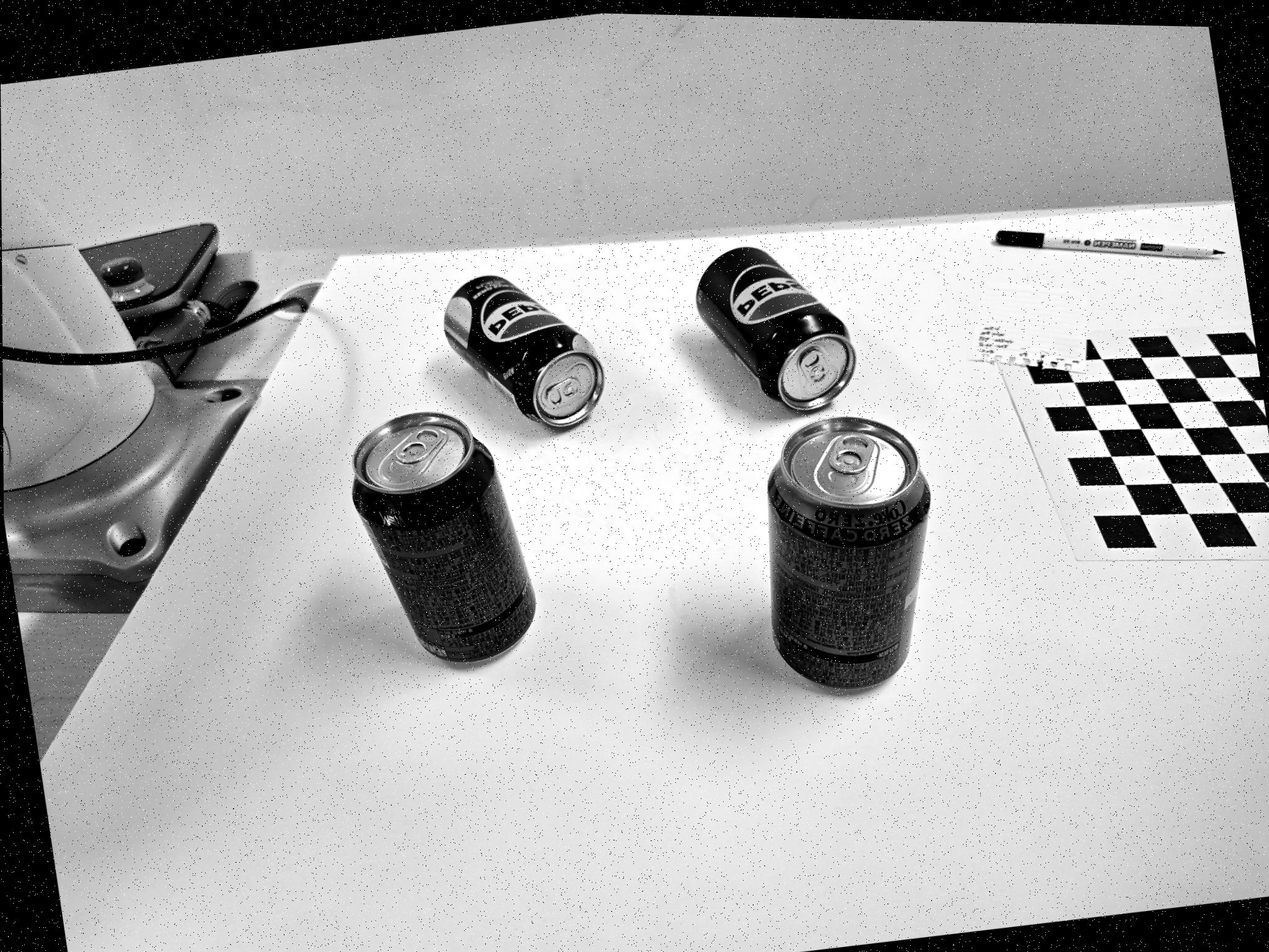can_coke_decaf: (767, 418, 930, 688)
can_coke_zero: (353, 412, 535, 663)
can_pepsi: (696, 247, 855, 410)
can_pepsi_zero: (445, 276, 604, 428)
